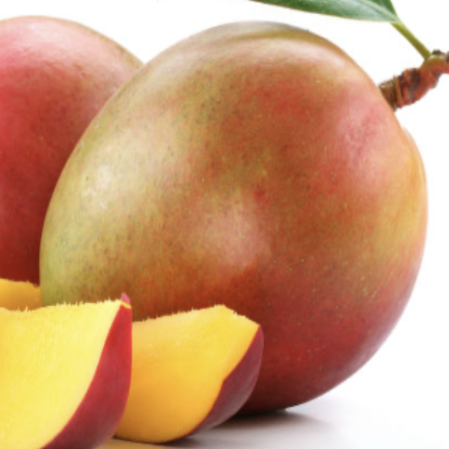mango: (17, 18, 448, 419)
